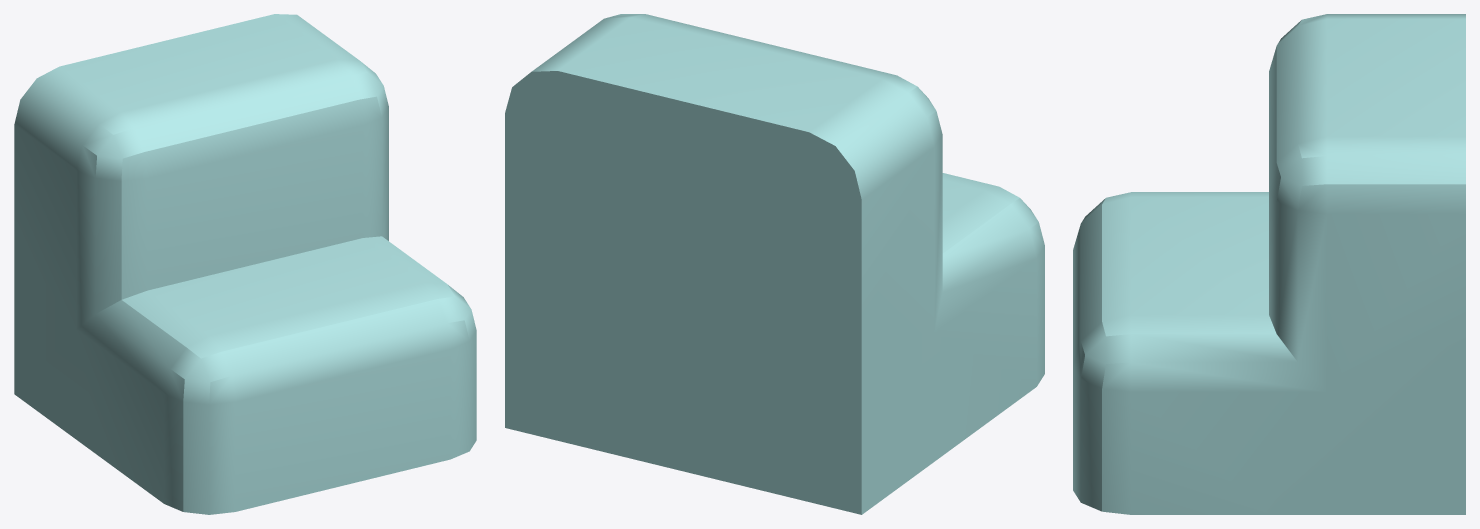
File: Stairs_Smooth.fbx
3 views of the same model, side by side, from view 1: azimuth 30°, elevation 25°; view 2: azimuth 150°, elevation 25°; view 3: azimuth 270°, elevation 25° (orthographic). The views are drawn at different scales.
Parts seen in each view (by area): view 1: stairs_smooth; view 2: stairs_smooth; view 3: stairs_smooth.
Part boxes in pixels (box(x1,y1,x2,y2)): stairs_smooth: box(14, 14, 476, 514); stairs_smooth: box(505, 14, 1044, 514); stairs_smooth: box(1073, 14, 1465, 514).
Size of the model in its own units: 1 by 0.9906 by 0.9971.
